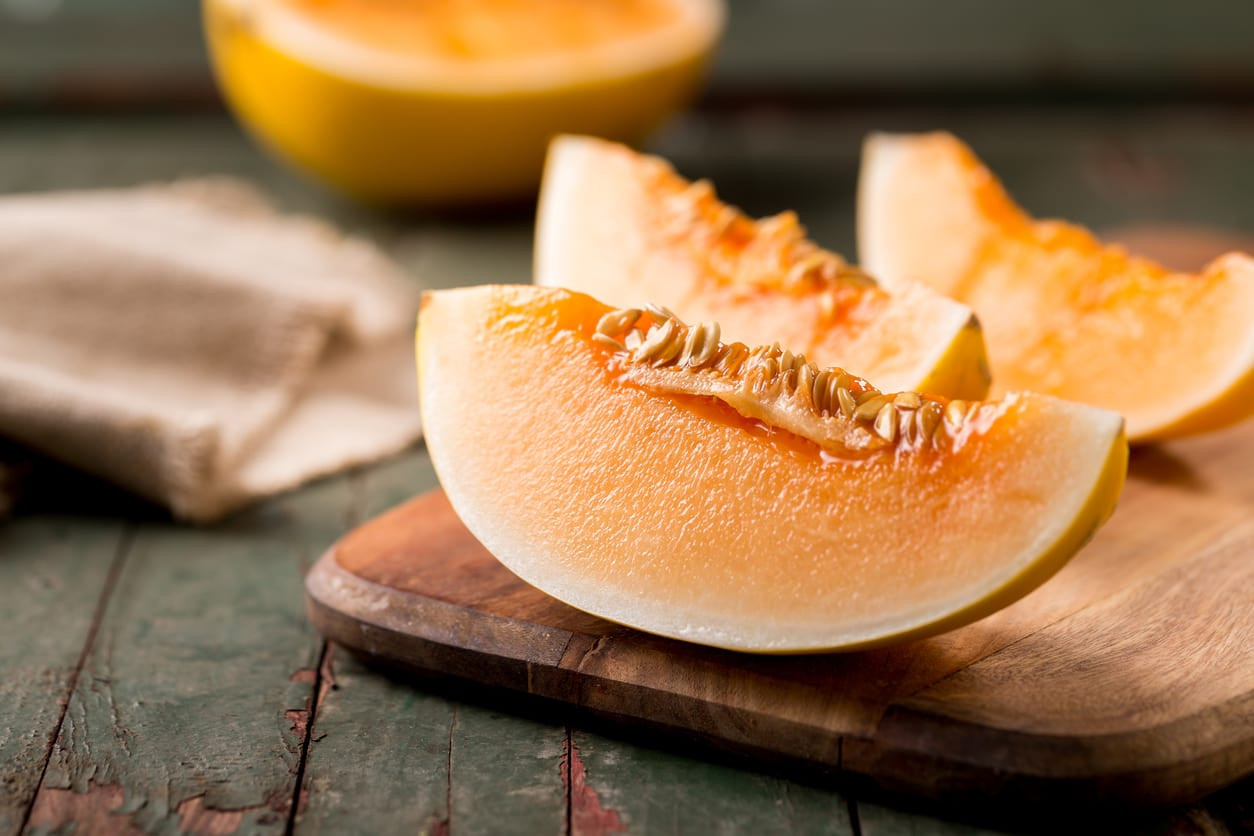Melon: (285, 385, 1134, 650), (839, 119, 1254, 439), (515, 123, 975, 410)
